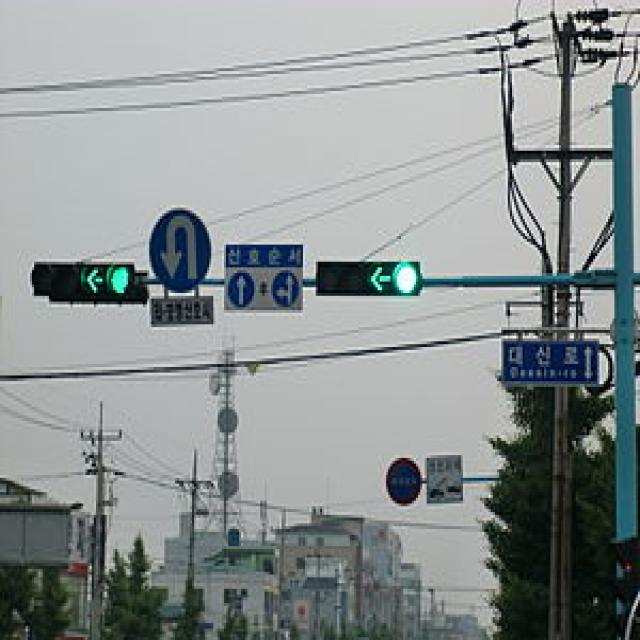green light: (34, 260, 148, 307), (315, 259, 422, 296)
